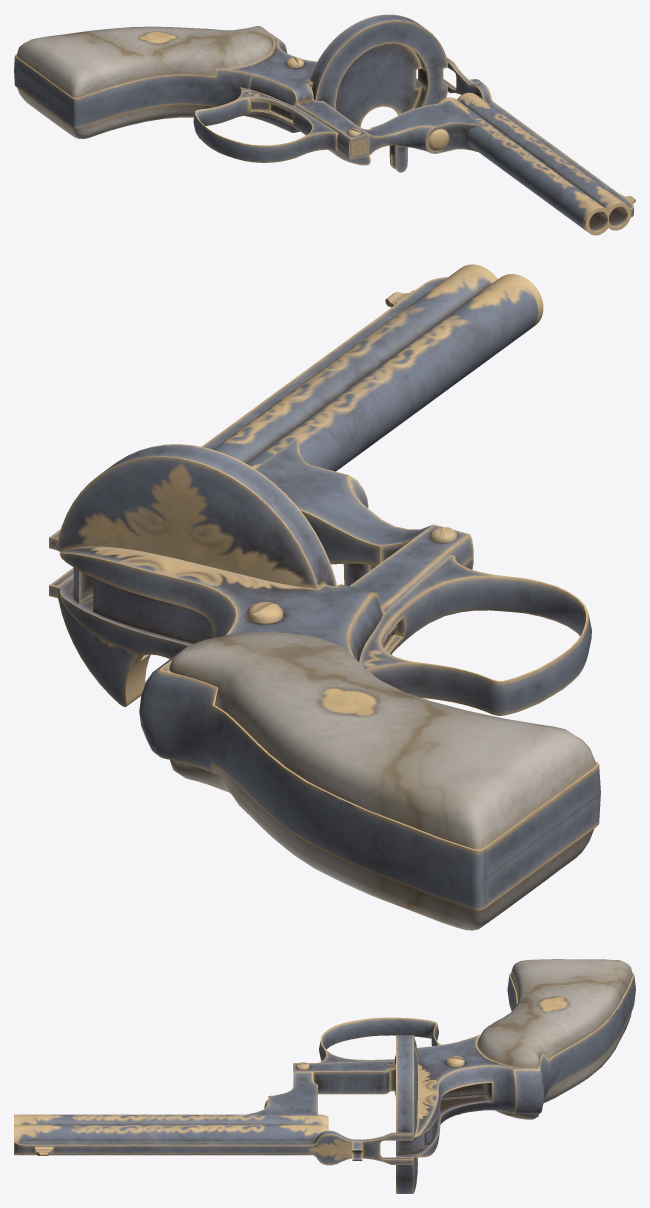
The model's file is SM_Chevallier_01a.fbx.
3 renders of one model, top to bottom at view 1: azimuth 30°, elevation 25°; view 2: azimuth 150°, elevation 25°; view 3: azimuth 270°, elevation 25°, orthographic. The views are drawn at different scales.
Visible parts, largest first — view 1: SM_Chevallier_01a_LOD0; view 2: SM_Chevallier_01a_LOD0; view 3: SM_Chevallier_01a_LOD0.
Boxes of the visible parts, left/top/right/bottom form: SM_Chevallier_01a_LOD0: left=14, top=14, right=635, bottom=235; SM_Chevallier_01a_LOD0: left=49, top=264, right=600, bottom=930; SM_Chevallier_01a_LOD0: left=14, top=959, right=635, bottom=1193.
Size of the model in its own units: 15.38 by 24.18 by 6.12.
